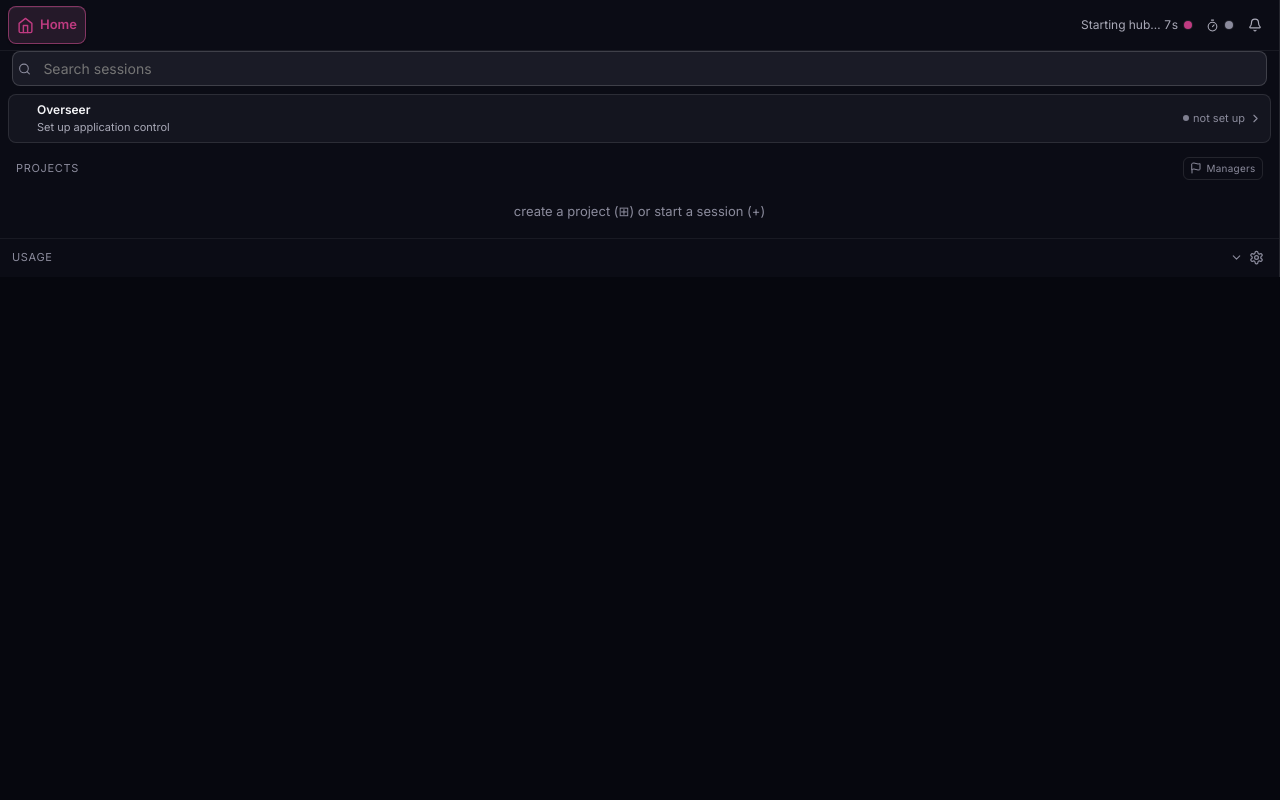
Scenario: compact system status indicators › presents cold startup as loading rather than a broken connection
This screenshot has width=1280, height=800.
Click the button with aria-label "Hub: starting".
click(1130, 24)  # box [92,11,1199,39]
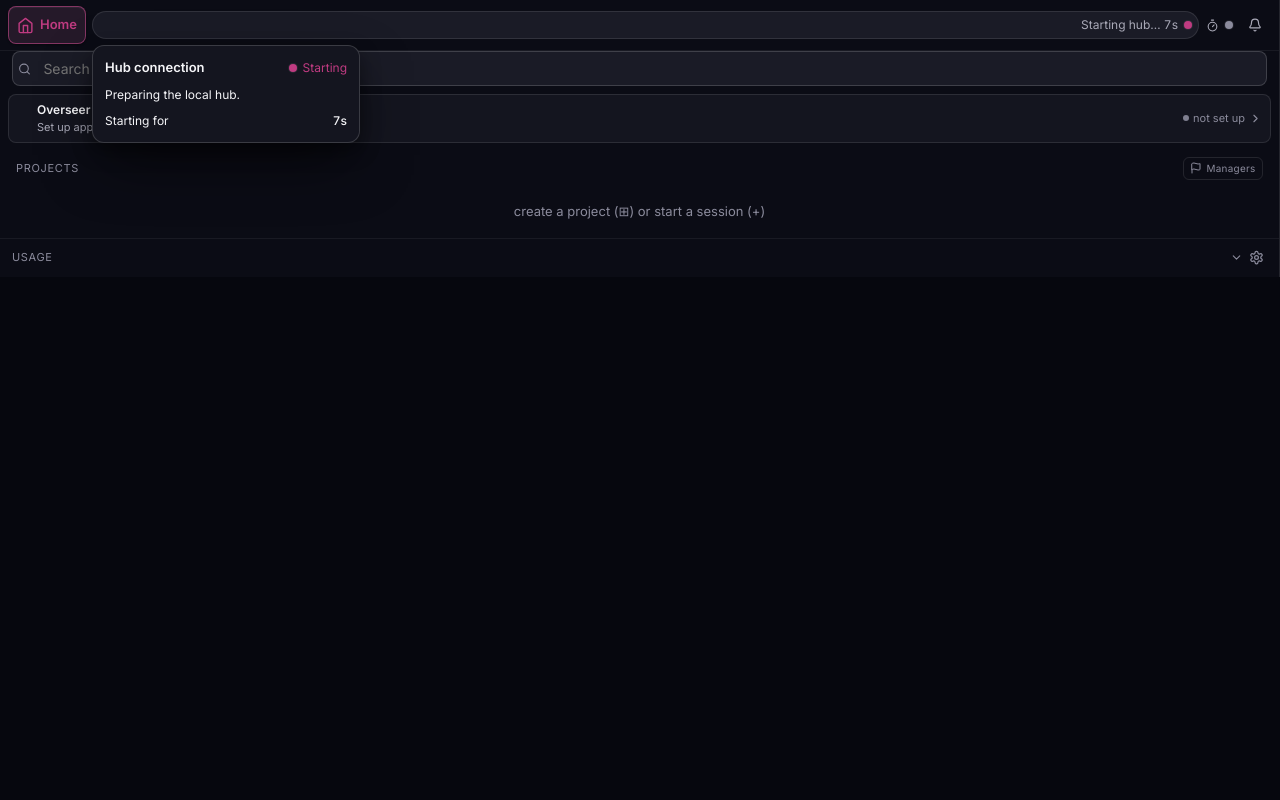
Now the dialog "Hub connection" shows "Preparing the local hub.", box [105,86,240,102]
